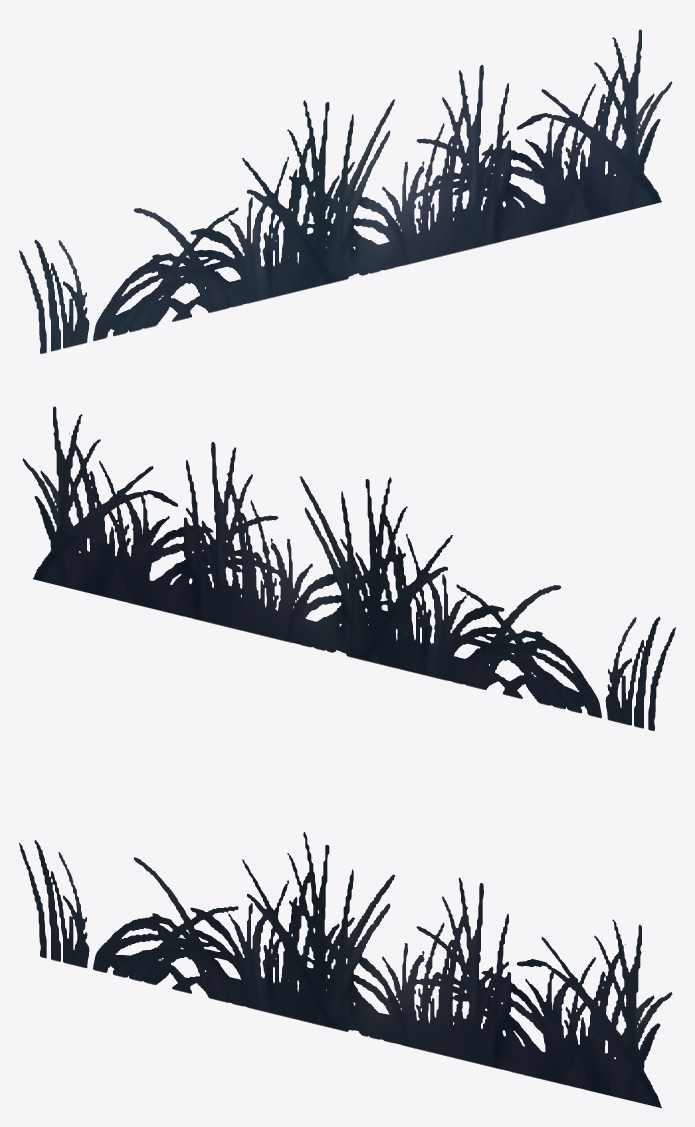
File: HuBian_NightZhiwu9_fbx.FBX
The picture shows the model from 3 angles, top to bottom: view 1: azimuth 30°, elevation 25°; view 2: azimuth 150°, elevation 25°; view 3: azimuth 330°, elevation 25°; orthographic projection.
Visible parts, largest first — view 1: Object028; view 2: Object028; view 3: Object028.
Part boxes in pixels (bbox=[...]): Object028: bbox=[19, 29, 672, 354]; Object028: bbox=[22, 406, 675, 731]; Object028: bbox=[19, 832, 672, 1107].
Size of the model in its own units: 3.3 by 0.968 by 2.42e-07.
Materials: 1 (1 with a texture image).
